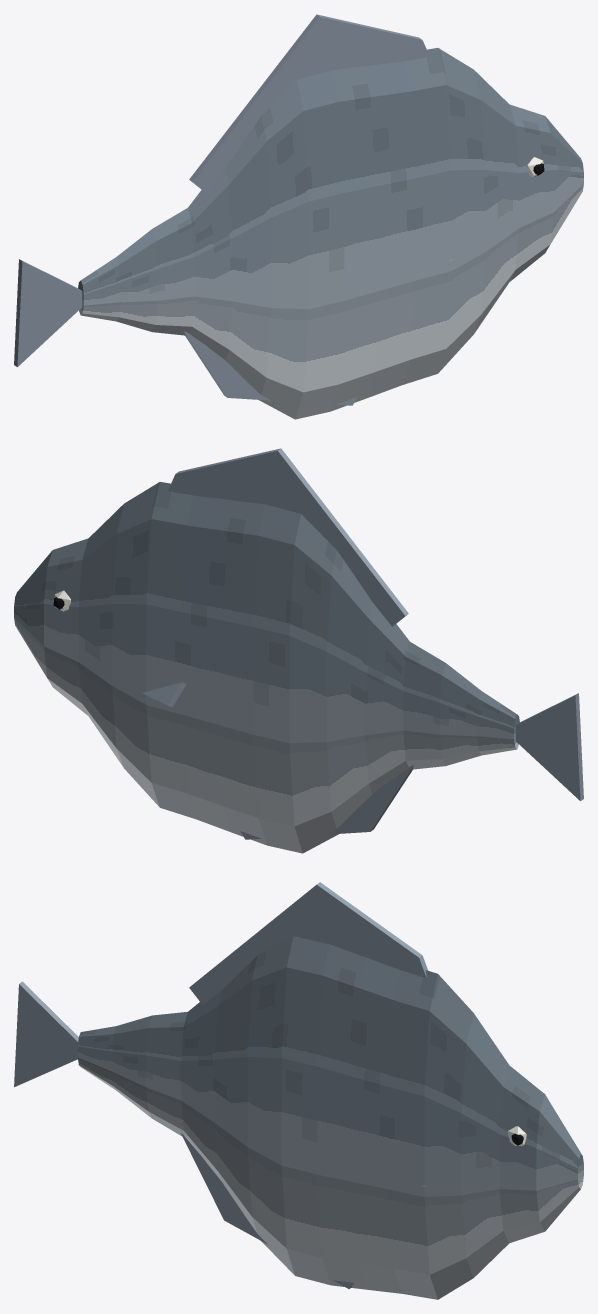
Rendered from ocean_sunfish.glb.
3 views of the same model, one above another, from view 1: azimuth 30°, elevation 25°; view 2: azimuth 150°, elevation 25°; view 3: azimuth 330°, elevation 25° (orthographic).
Parts seen in each view (by area): view 1: fish_ocean_sunfish; view 2: fish_ocean_sunfish; view 3: fish_ocean_sunfish.
Part boxes in pixels (x1=…): fish_ocean_sunfish: x1=14, y1=14, x2=583, y2=419; fish_ocean_sunfish: x1=14, y1=448, x2=583, y2=853; fish_ocean_sunfish: x1=14, y1=882, x2=583, y2=1299.
Bounding box in the file's own units: 1.13 × 0.7622 × 0.1257.
4 materials, 1 textured.
